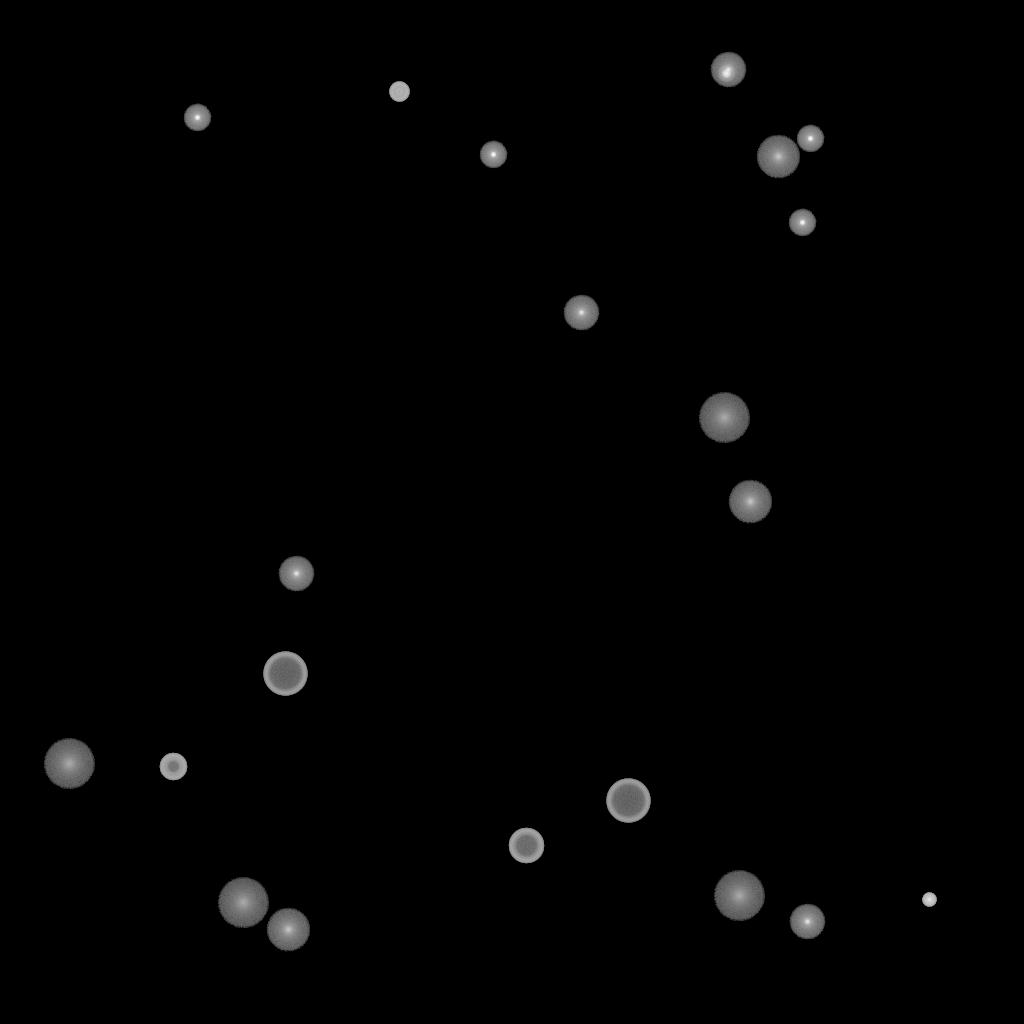depth:-10: (796, 125, 824, 153), (788, 209, 816, 237), (479, 141, 507, 169), (183, 104, 211, 132)
depth:-20: (717, 65, 735, 83)
depth:-30: (922, 893, 936, 907)
depth:-40: (389, 82, 409, 102)
depth:-50: (159, 753, 187, 781)
depth:-60: (508, 828, 544, 864)
depth:-70: (263, 652, 307, 696), (606, 779, 650, 823)
depth:0: (278, 556, 314, 592), (789, 904, 825, 940), (710, 52, 746, 88), (563, 295, 599, 331)
depth:10: (266, 908, 310, 952), (756, 135, 800, 179), (728, 480, 772, 524)
depth:20: (698, 393, 750, 443), (43, 739, 95, 789), (217, 878, 269, 928), (713, 871, 765, 921)
